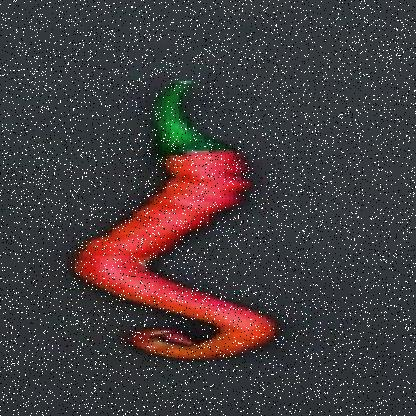chili: (58, 80, 279, 358)
